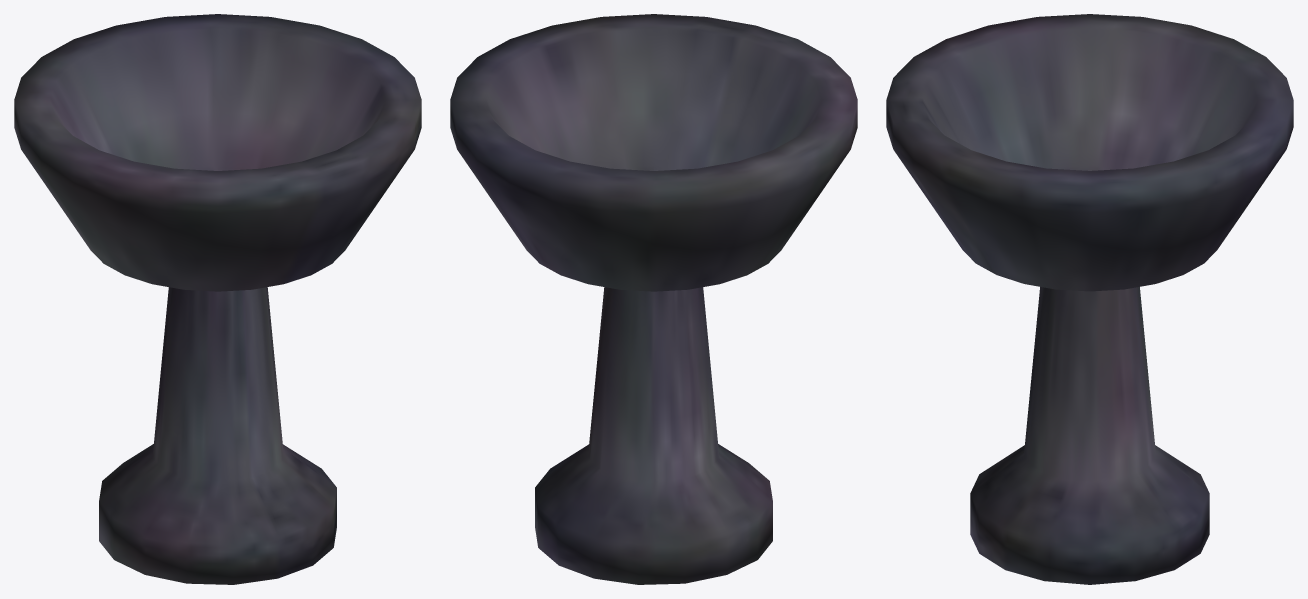
Rendered from brazier.obj.
3 views of the same model, side by side, from view 1: azimuth 30°, elevation 25°; view 2: azimuth 150°, elevation 25°; view 3: azimuth 270°, elevation 25° (orthographic).
Visible parts, largest first — view 1: Open_fire_bowl, Stone_lamp_plinth; view 2: Open_fire_bowl, Stone_lamp_plinth; view 3: Open_fire_bowl, Stone_lamp_plinth.
Boxes of the visible parts, x1,y1,x2,y2 form: Open_fire_bowl: (14, 14, 421, 291); Stone_lamp_plinth: (99, 287, 336, 584); Open_fire_bowl: (450, 14, 857, 291); Stone_lamp_plinth: (535, 287, 772, 584); Open_fire_bowl: (886, 14, 1293, 291); Stone_lamp_plinth: (970, 287, 1209, 584).
Size of the model in its own units: 11.79 by 13.88 by 11.79.
Materials: 1 (1 with a texture image).
